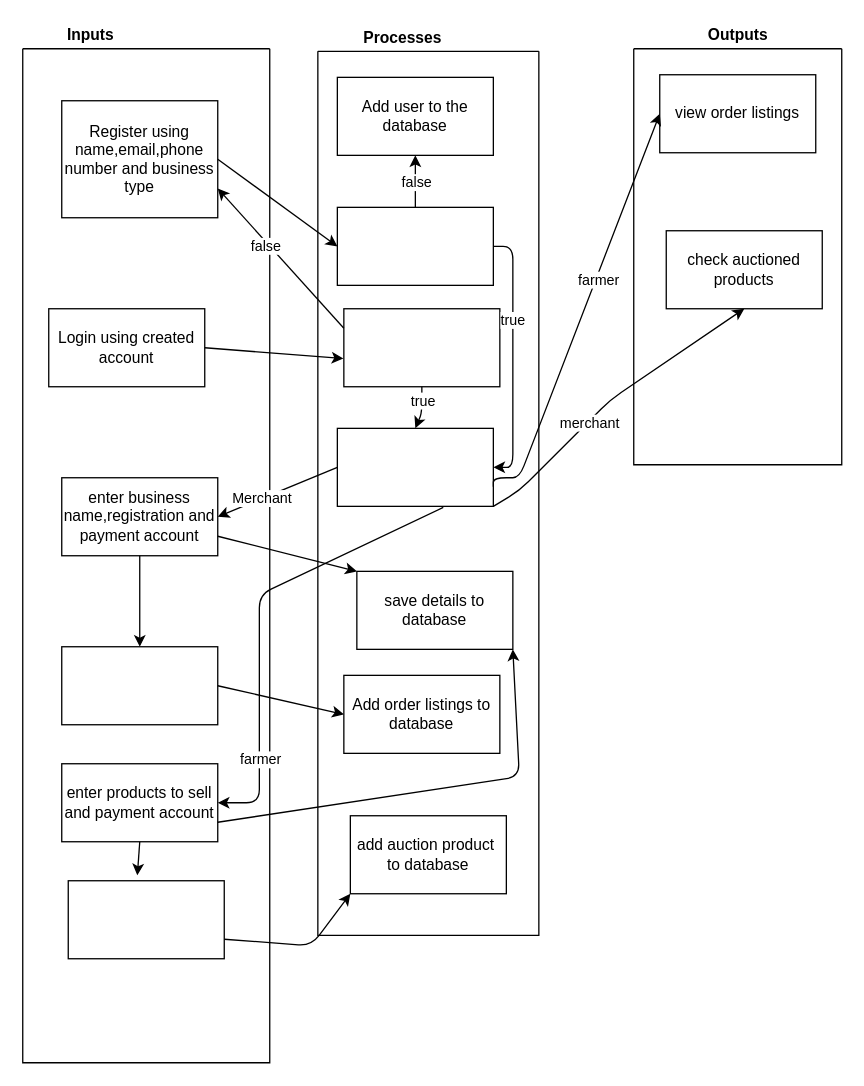
The diagram is 864 pixels wide and 1086 high, and some of its shapes have lost their labels. The shapes that lost their labels are listed below. From the top down, each one's box as (x1, y1, x2, y2) in pixels, then its label:
(336, 206, 493, 285): check if user exist in database
(343, 307, 500, 387): check if user exists
(336, 427, 493, 506): check if user is farmer or merchant
(60, 645, 218, 725): order product
(67, 879, 224, 959): auction product
